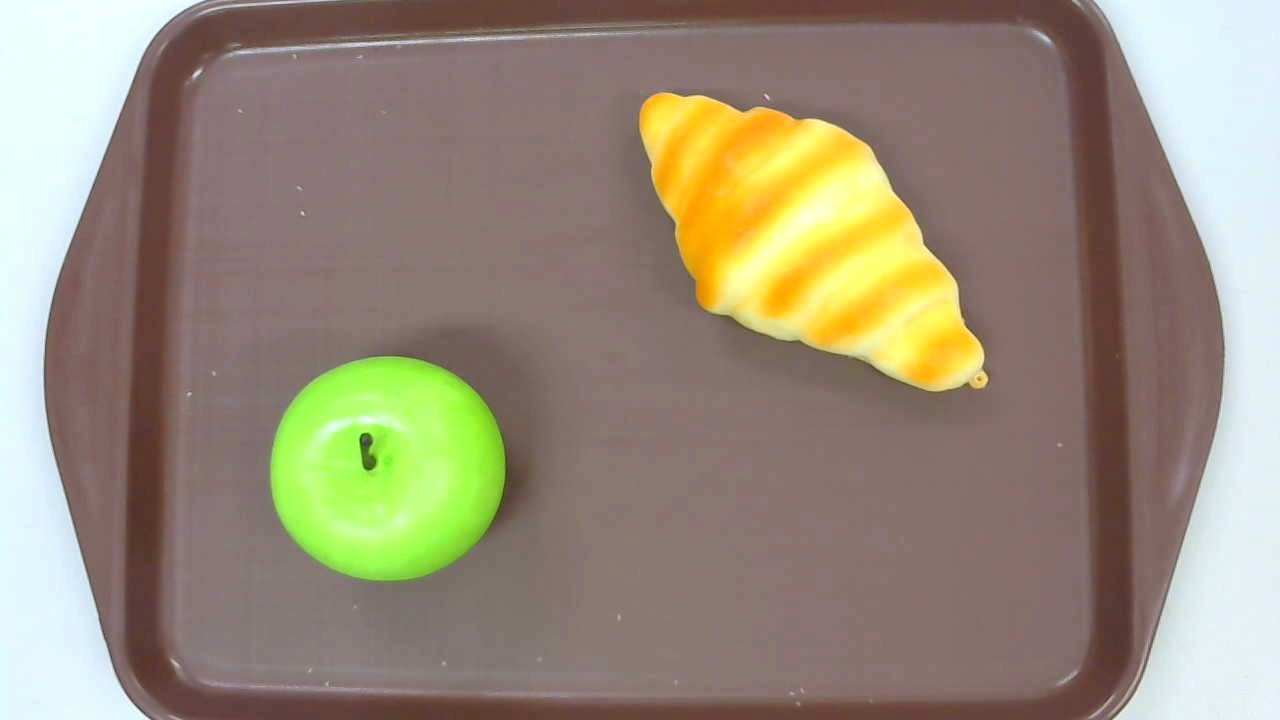croissant: (638, 93, 989, 393)
green apple: (268, 355, 506, 582)
